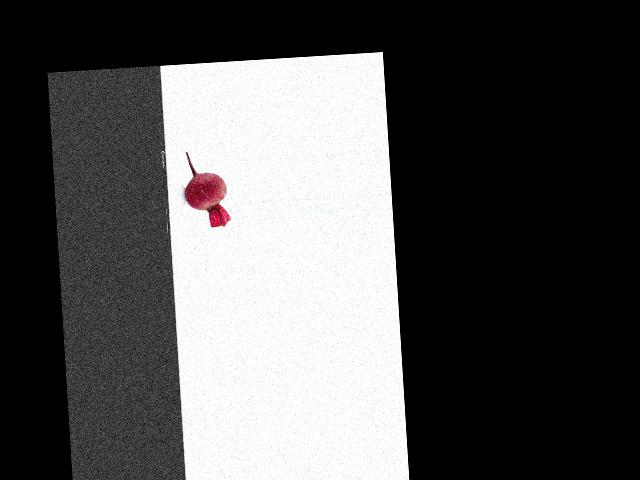beet: (182, 149, 230, 229)
